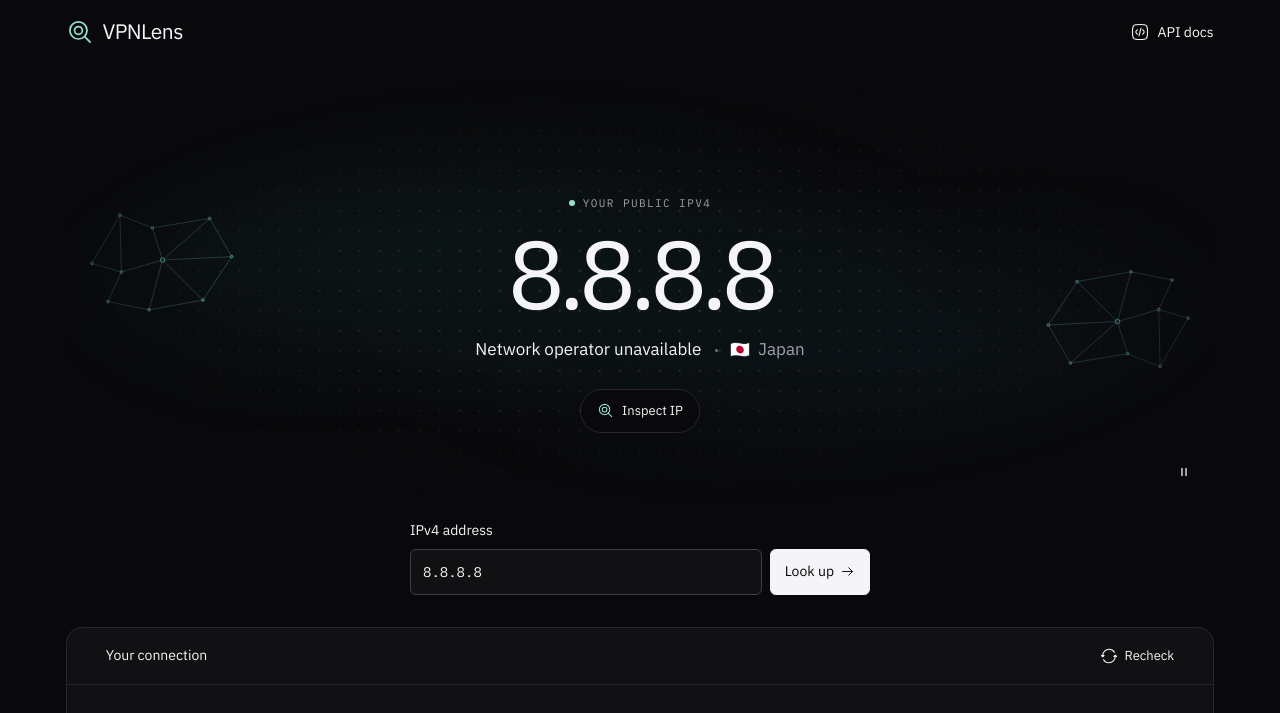
Test case: focused live connection screen › validates 999.1.1.1 without another request
Expected: the heading "8.8.8.8" is shown, x1=508 y1=225 x2=773 y2=321
Replace the text in the field labelled "IPv4 address" with "999.1.1.1" at (586, 572), box x1=410 y1=549 x2=762 y2=595
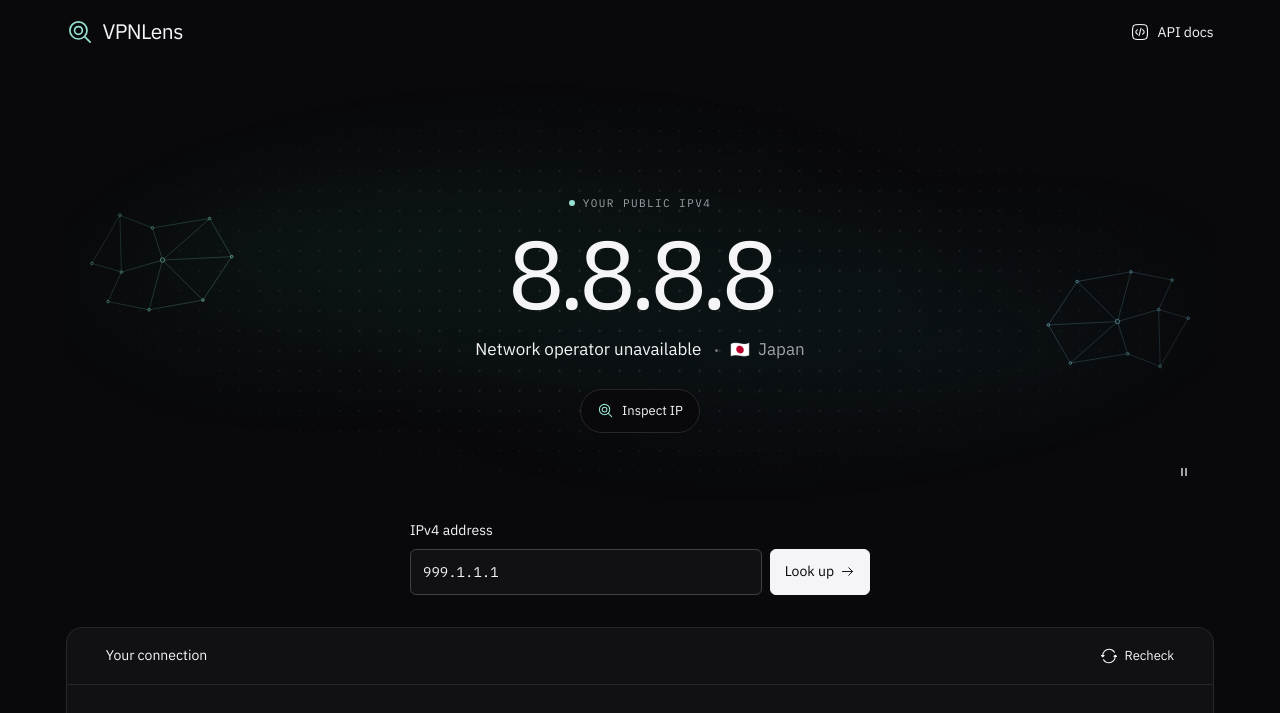
Click the button "Look up" at (820, 572), box x1=770 y1=549 x2=870 y2=595
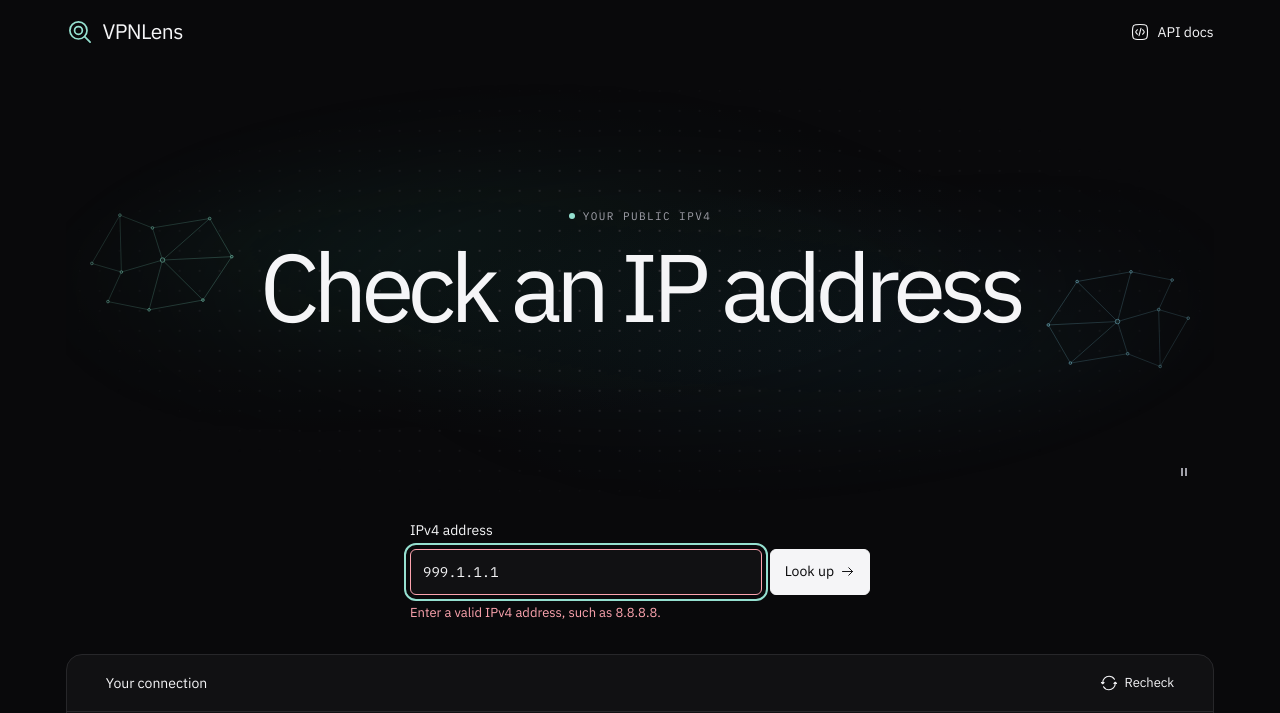
Now the text "Enter a valid IPv4 address, such as 8.8.8.8." is shown, box x1=410 y1=604 x2=661 y2=621
